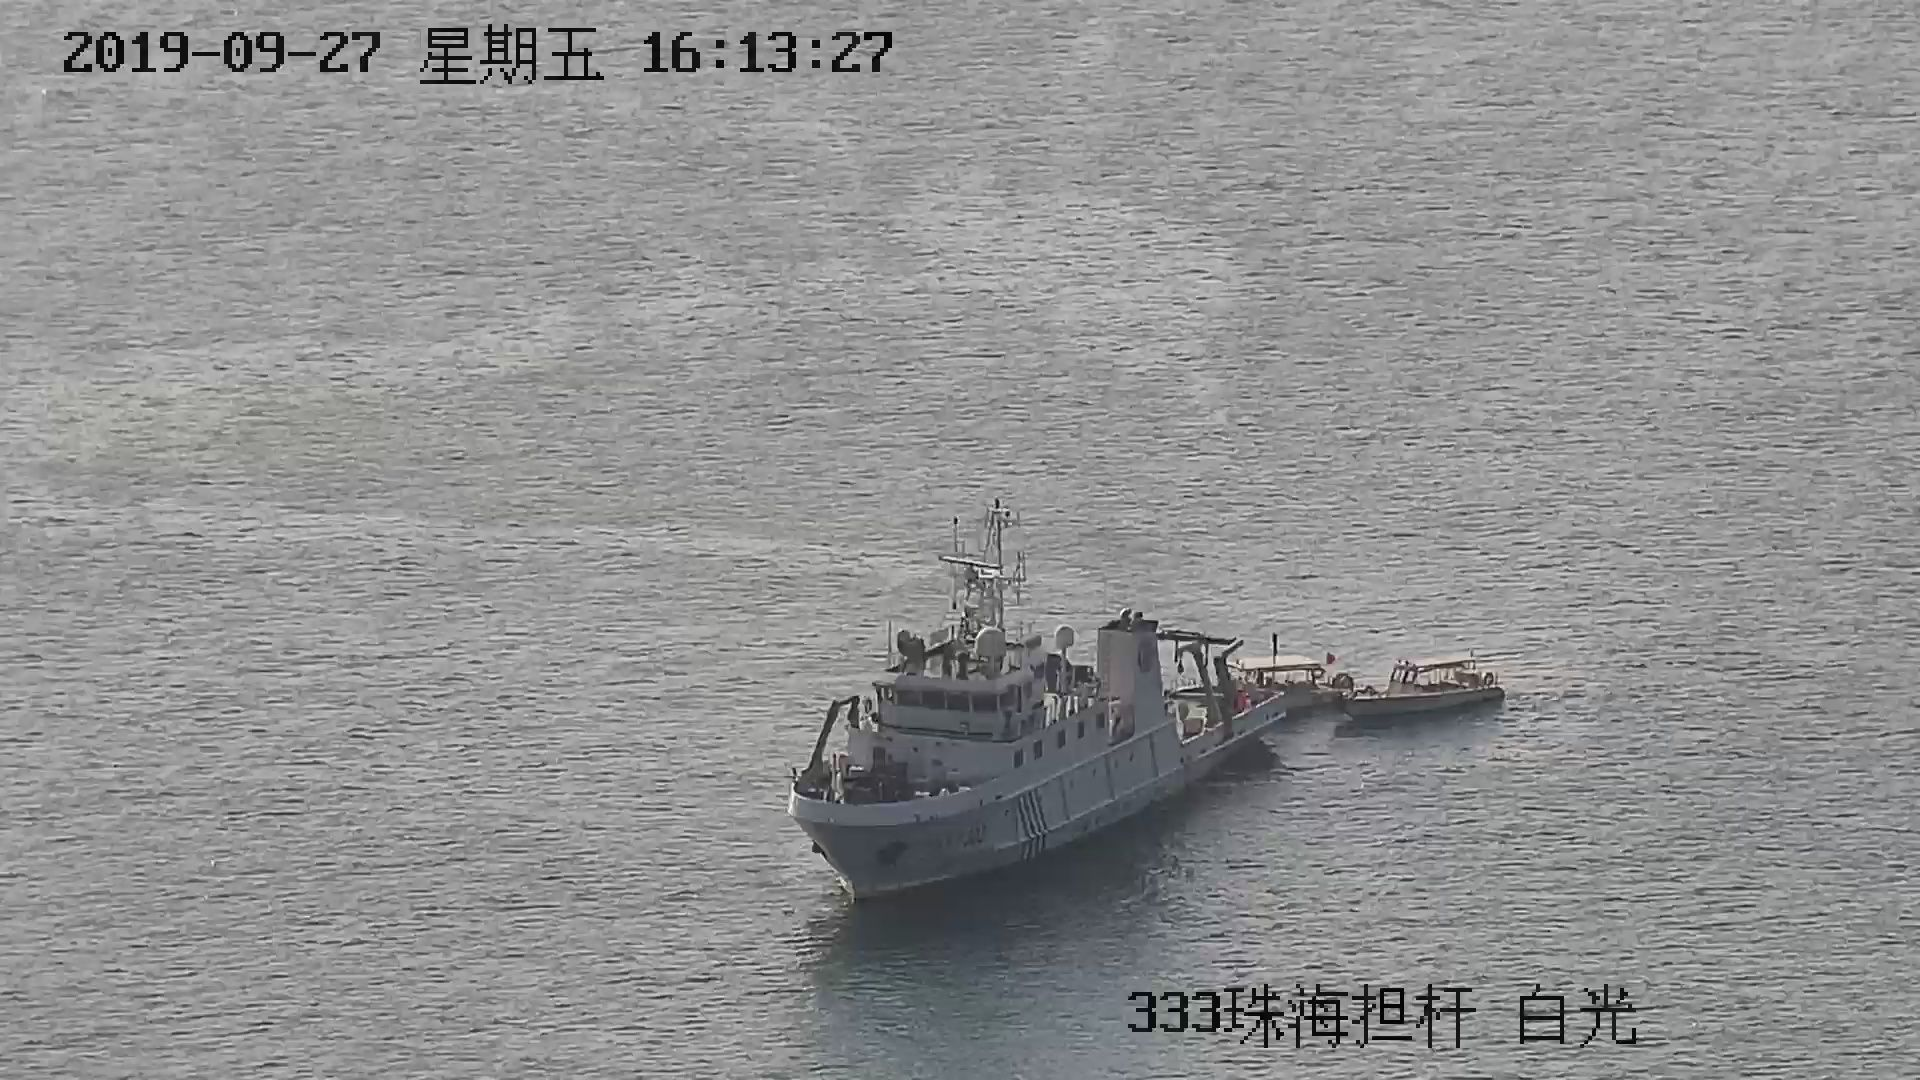ship: (789, 506, 1323, 909), (1332, 665, 1501, 727)
